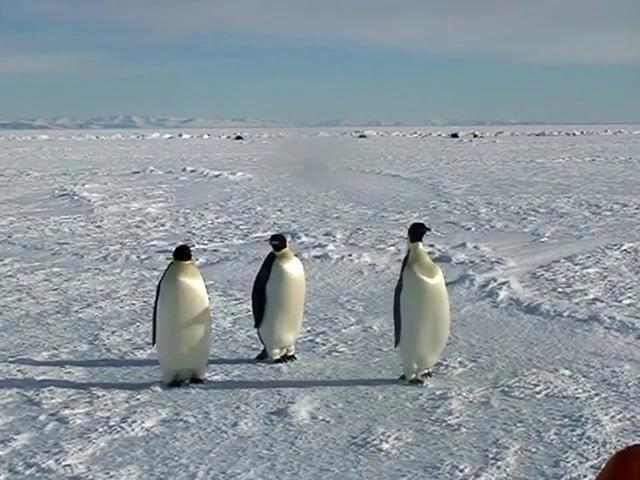animal: (395, 224, 451, 385)
